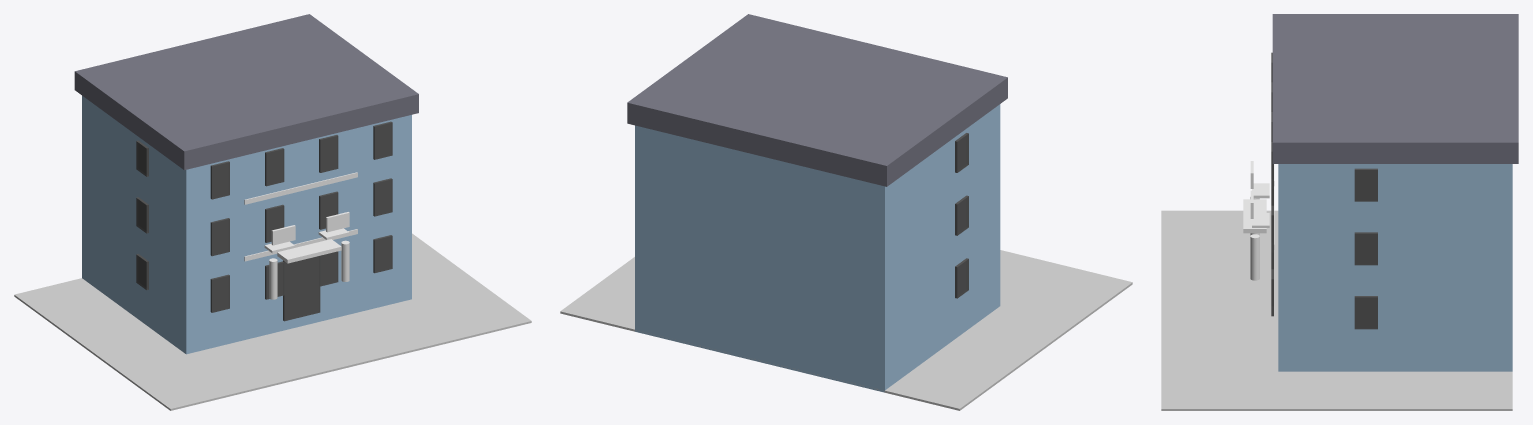
The model's file is Hotel.fbx.
3 views of the same model, side by side, from view 1: azimuth 30°, elevation 25°; view 2: azimuth 150°, elevation 25°; view 3: azimuth 270°, elevation 25° (orthographic). The views are drawn at different scales.
Parts seen in each view (by area): view 1: Hotel_Building, Hotel_Roof, Hotel_Ground, Hotel_Entrance, Entrance_Canopy, Ground_Window_4, Second_Window_4, Third_Window_1, Third_Window_4, Ground_Window_1, Third_Window_2, Second_Window_1 (+5 smaller); view 2: Hotel_Building, Hotel_Roof, Hotel_Ground; view 3: Hotel_Building, Hotel_Roof, Hotel_Ground, Side_Window_Right_1, Side_Window_Right_2, Side_Window_Right_3, Entrance_Canopy, Entrance_Column_2.
Part boxes in pixels (box(x1,y1,x2,y2)): Hotel_Building: box(82, 95, 411, 354); Hotel_Roof: box(74, 14, 418, 170); Hotel_Ground: box(14, 233, 531, 410); Hotel_Entrance: box(283, 256, 320, 321); Entrance_Canopy: box(277, 239, 341, 263); Ground_Window_4: box(373, 235, 392, 273); Second_Window_4: box(373, 178, 392, 216); Third_Window_1: box(210, 161, 229, 199); Third_Window_4: box(373, 121, 392, 159); Ground_Window_1: box(210, 274, 229, 312); Third_Window_2: box(265, 148, 284, 186); Second_Window_1: box(210, 218, 229, 256); Hotel_Building: box(635, 104, 1000, 392); Hotel_Roof: box(627, 14, 1007, 186); Hotel_Ground: box(560, 250, 1132, 410); Hotel_Building: box(1278, 164, 1512, 371); Hotel_Roof: box(1272, 14, 1518, 163); Hotel_Ground: box(1161, 210, 1512, 410); Side_Window_Right_1: box(1354, 296, 1377, 329); Side_Window_Right_2: box(1354, 232, 1377, 265); Side_Window_Right_3: box(1354, 168, 1377, 201); Entrance_Canopy: box(1243, 199, 1266, 233); Entrance_Column_2: box(1250, 234, 1259, 280).
Size of the model in its own units: 800 by 440 by 610.
